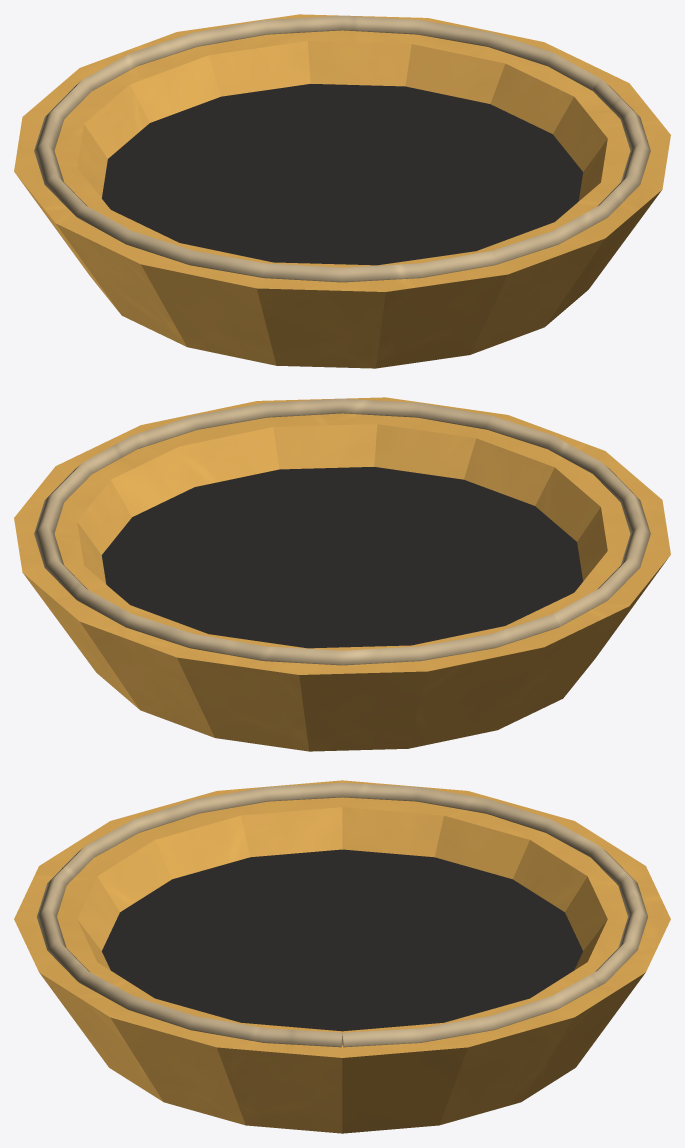
Rendered from tool_ink_dish.glb.
3 renders of one model, top to bottom at view 1: azimuth 30°, elevation 25°; view 2: azimuth 150°, elevation 25°; view 3: azimuth 270°, elevation 25°, orthographic.
Visible parts, largest first — view 1: tool_ink_dish__faceted_dish, tool_ink_dish__ink_surface, tool_ink_dish__paper_rim; view 2: tool_ink_dish__faceted_dish, tool_ink_dish__ink_surface, tool_ink_dish__paper_rim; view 3: tool_ink_dish__faceted_dish, tool_ink_dish__ink_surface, tool_ink_dish__paper_rim.
Boxes of the visible parts, x1=… form: tool_ink_dish__faceted_dish: x1=14, y1=14, x2=670, y2=368; tool_ink_dish__ink_surface: x1=102, y1=84, x2=583, y2=265; tool_ink_dish__paper_rim: x1=34, y1=15, x2=650, y2=282; tool_ink_dish__faceted_dish: x1=14, y1=397, x2=670, y2=751; tool_ink_dish__ink_surface: x1=101, y1=467, x2=582, y2=648; tool_ink_dish__paper_rim: x1=34, y1=398, x2=650, y2=665; tool_ink_dish__faceted_dish: x1=14, y1=780, x2=670, y2=1133; tool_ink_dish__ink_surface: x1=102, y1=849, x2=582, y2=1031; tool_ink_dish__paper_rim: x1=37, y1=782, x2=647, y2=1047.
Bounding box in the file's own units: 0.26 × 0.052 × 0.26.
Materials: 3 (2 with a texture image).
